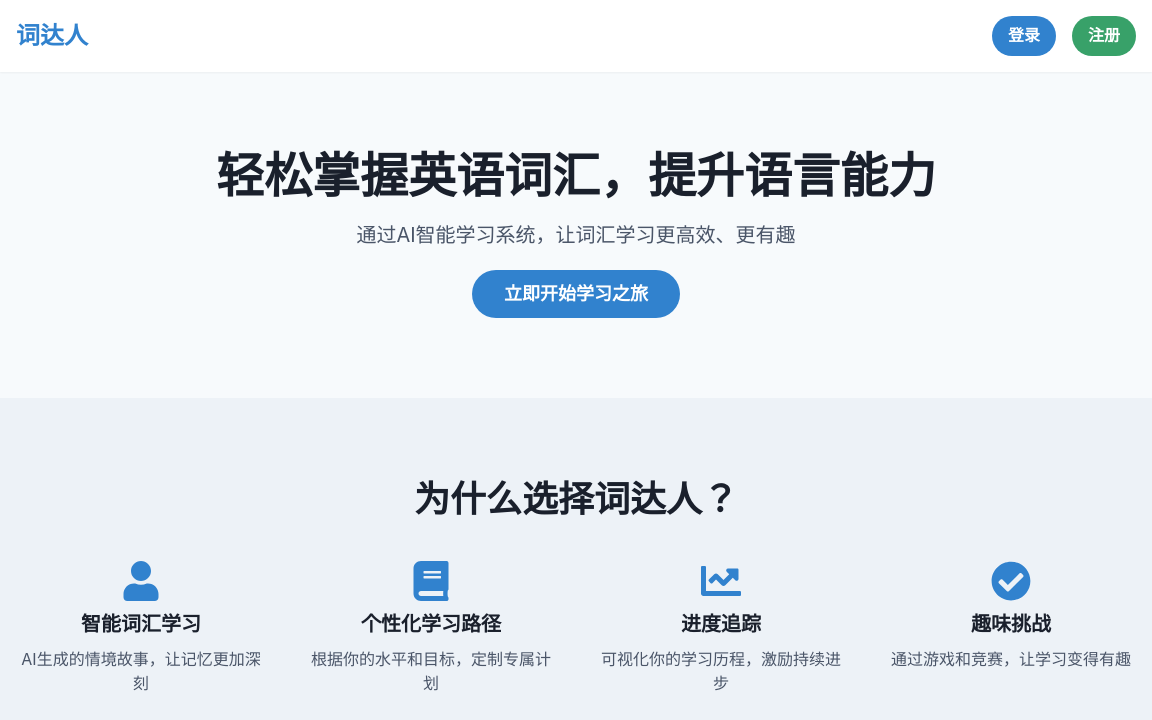
Test: HomePage › navigates to sign up page when get started button is clicked
Click the link "立即开始学习之旅": (576, 294) [472,270,680,318]
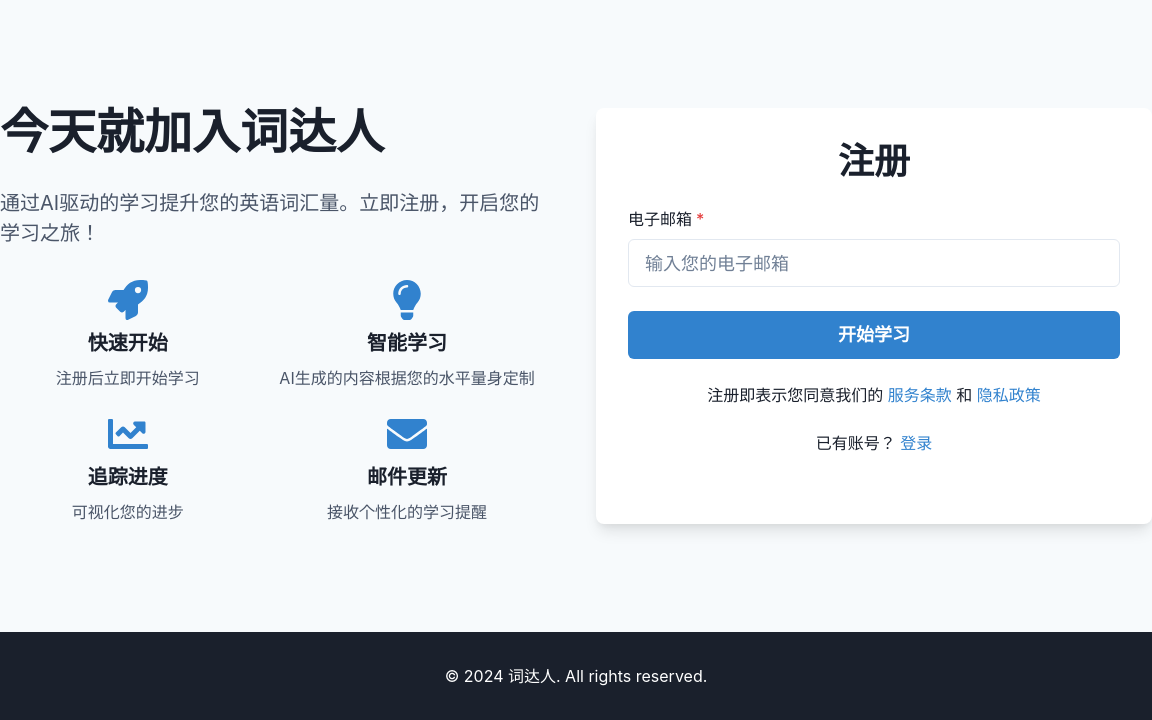
Expected: the heading "今天就加入词达人" is shown, [0,108,384,156]
